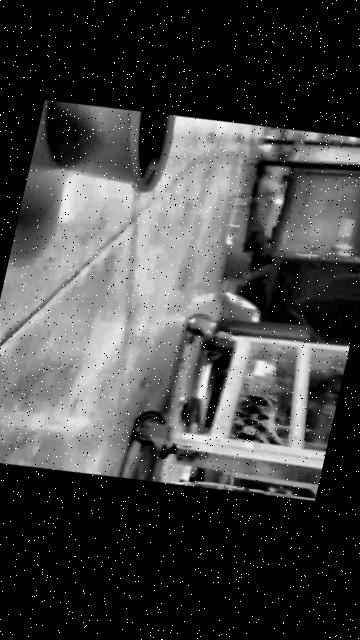pot: (32, 85, 178, 206)
